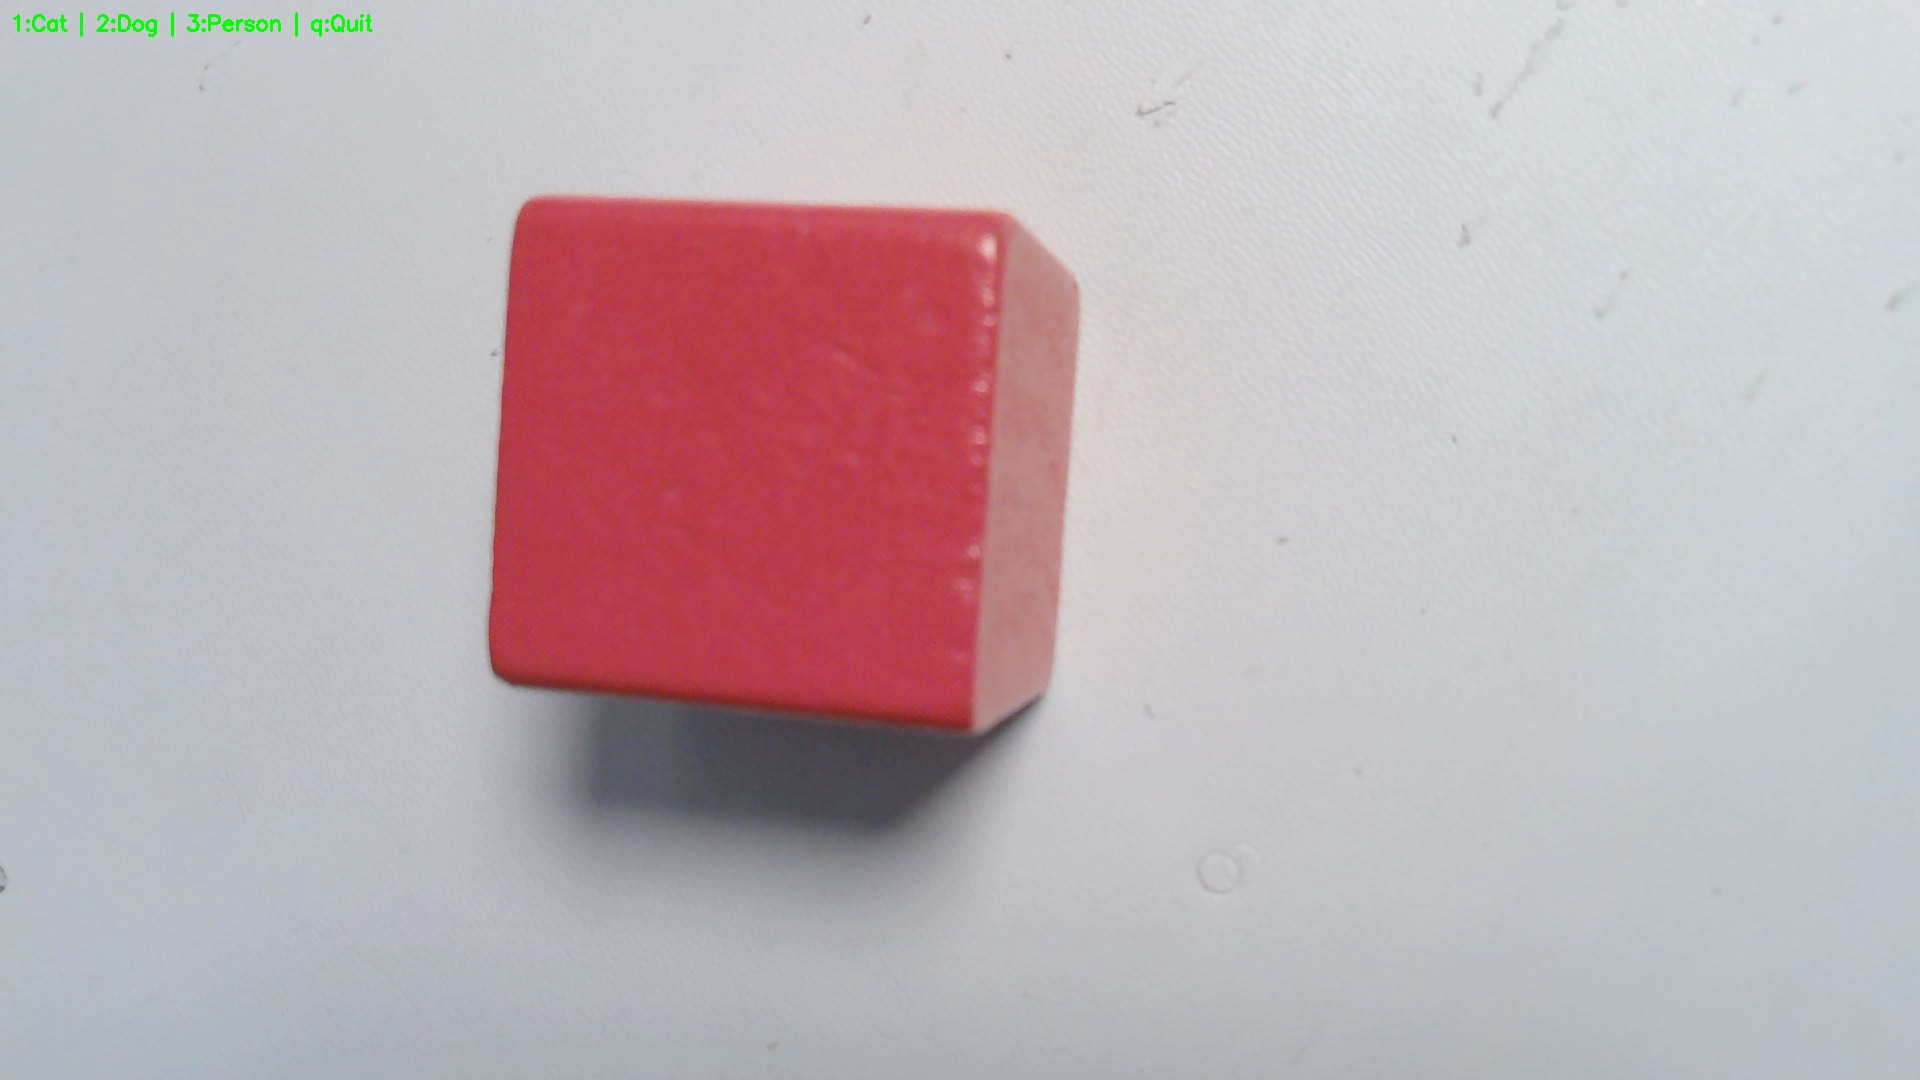red: (484, 193, 1084, 742)
